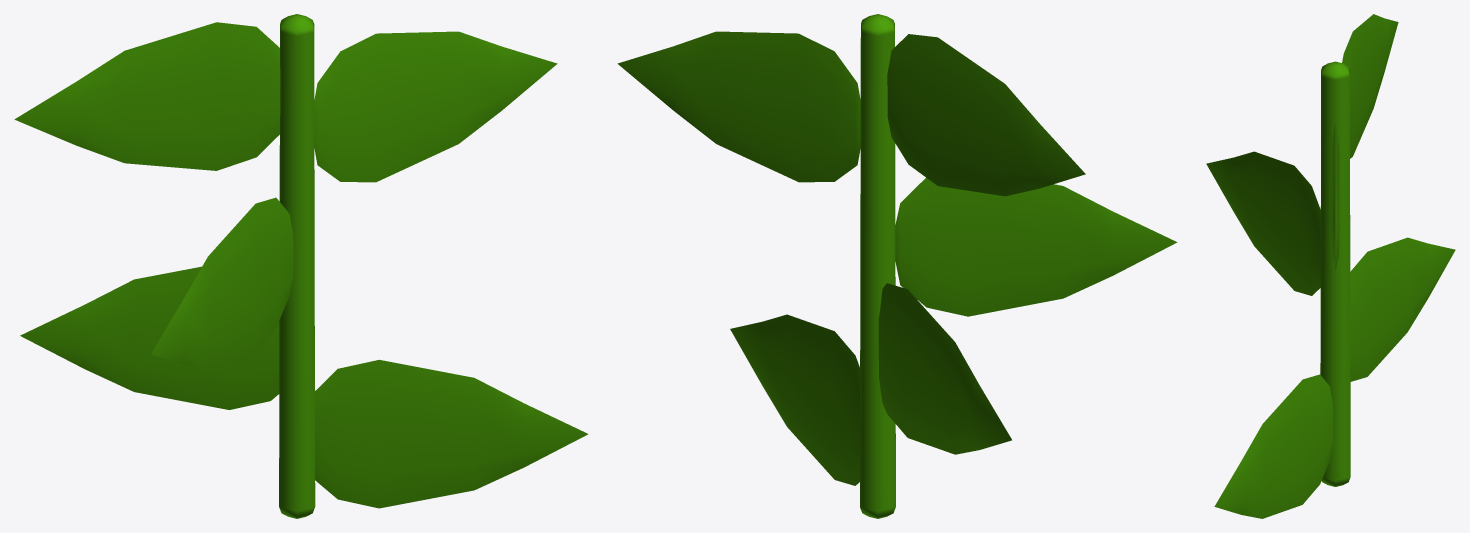
The model's file is plantsegment.fbx.
The picture shows the model from 3 angles, left to right: view 1: azimuth 30°, elevation 25°; view 2: azimuth 150°, elevation 25°; view 3: azimuth 270°, elevation 25°; orthographic projection. The views are drawn at different scales.
Visible parts, largest first — view 1: polySurface8; view 2: polySurface8; view 3: polySurface8.
Boxes of the visible parts, x1=… form: polySurface8: x1=14, y1=14, x2=588, y2=518; polySurface8: x1=617, y1=14, x2=1177, y2=518; polySurface8: x1=1206, y1=14, x2=1455, y2=518.
Bounding box in the file's own units: 3.45 × 3.28 × 1.75.
